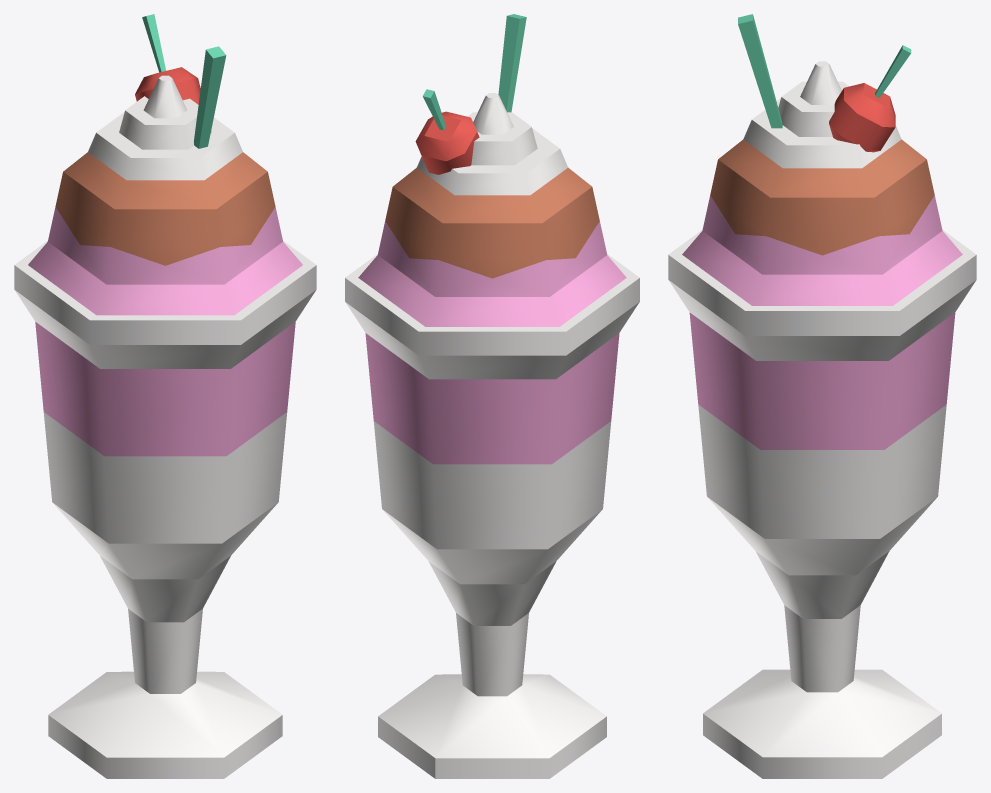
Rendered from sundae.glb.
3 renders of one model, left to right at view 1: azimuth 30°, elevation 25°; view 2: azimuth 150°, elevation 25°; view 3: azimuth 270°, elevation 25°, orthographic. The views are drawn at different scales.
Parts seen in each view (by area): view 1: sundae; view 2: sundae; view 3: sundae.
Boxes of the visible parts, x1,y1,x2,y2 form: sundae: (14,14,316,778); sundae: (345,14,639,778); sundae: (668,14,976,778).
Bounding box in the file's own units: 0.2232 × 0.6679 × 0.2577.
1 material, 1 textured.
